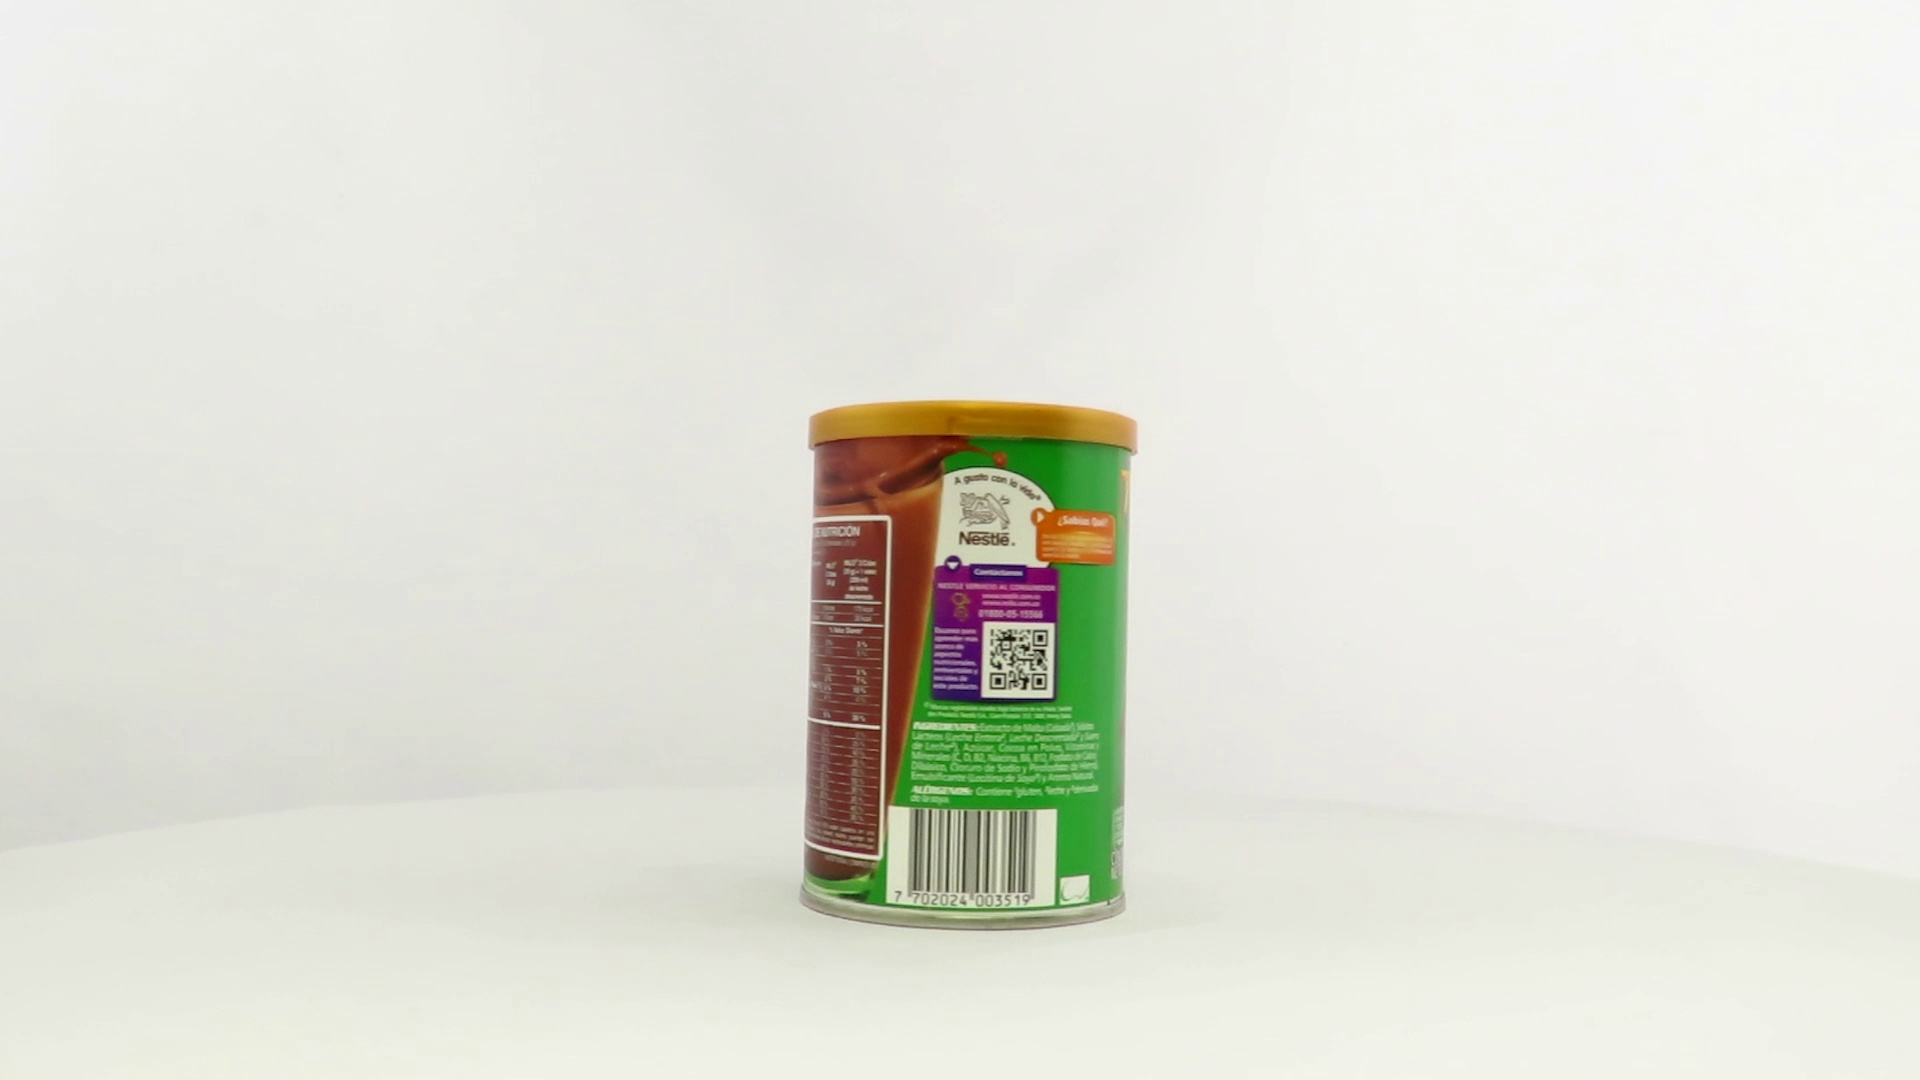COL0170203LAT20000: (793, 396, 1145, 938)
